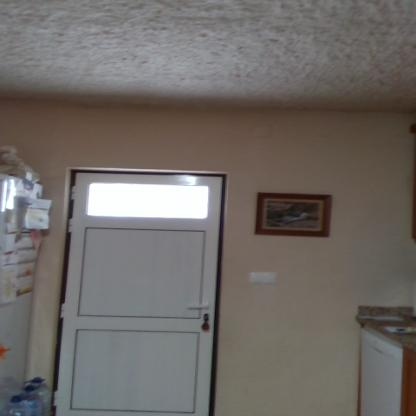closed: (48, 168, 242, 415)
